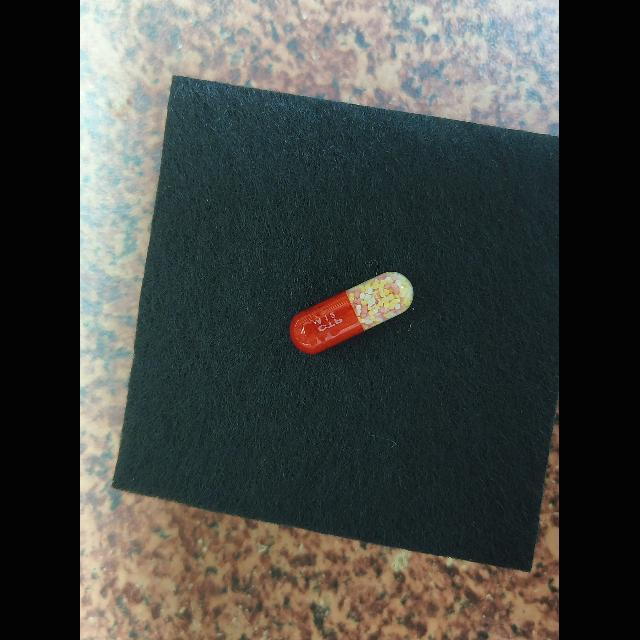Intact Capsule: (290, 272, 415, 354)
